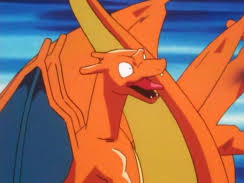charizard: (1, 37, 167, 183)
